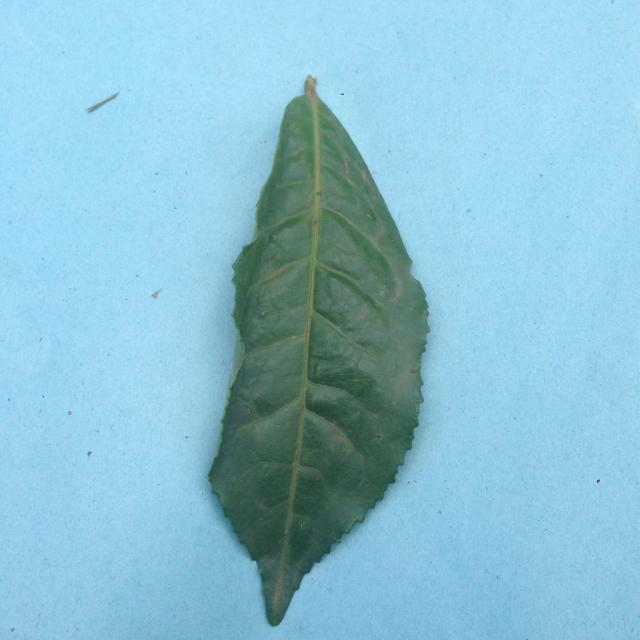Healthy: (182, 57, 449, 630)
